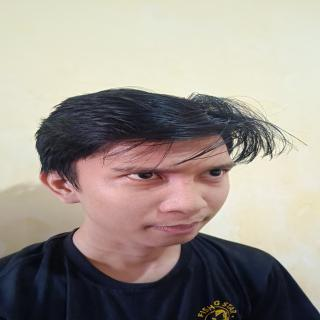Marah: (72, 126, 240, 245)
